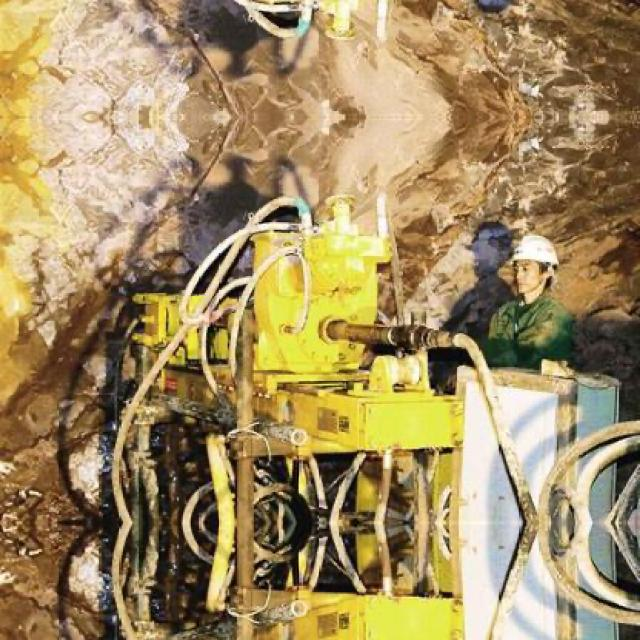con casco: (495, 232, 555, 306)
